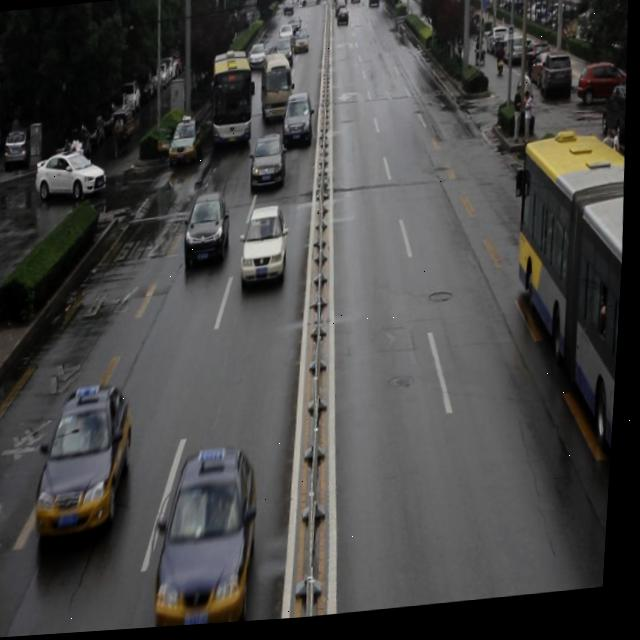car: (156, 449, 266, 622), (38, 386, 138, 537), (240, 209, 290, 291), (184, 192, 233, 272), (168, 125, 205, 178), (249, 140, 287, 190), (282, 95, 314, 151)
truck: (259, 55, 296, 127)
van: (502, 138, 632, 483), (210, 53, 258, 151)
